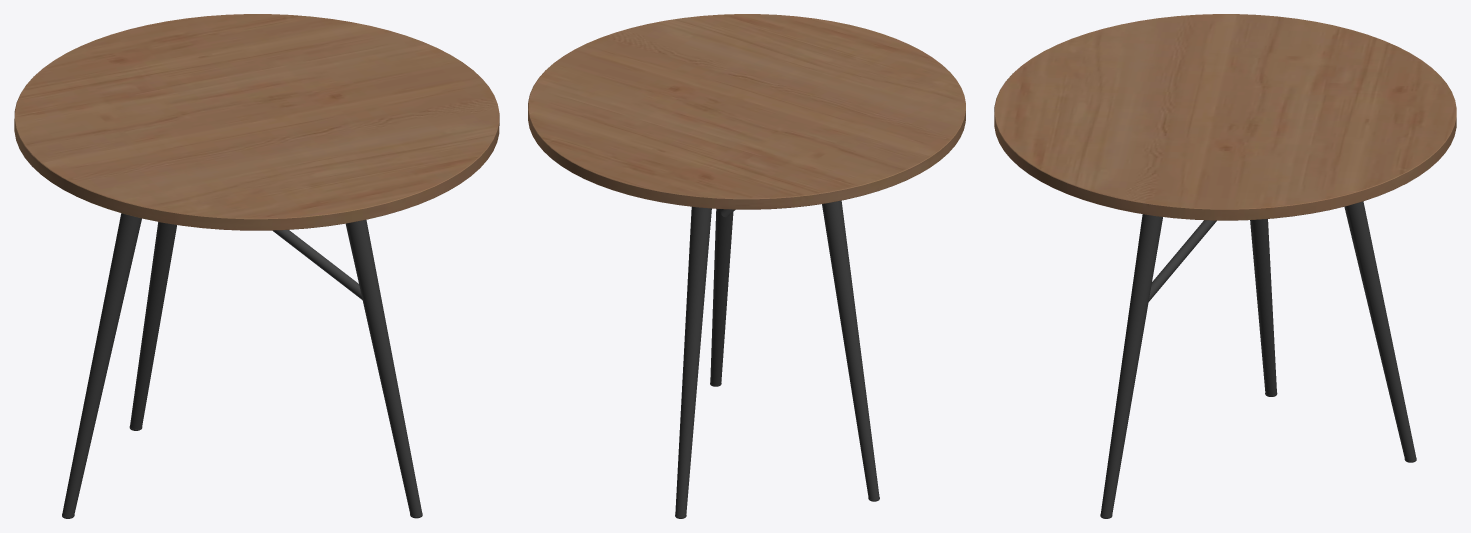
The model's file is masuta-3-picioare.9c1bb3bc25.glb.
3 views of the same model, side by side, from view 1: azimuth 30°, elevation 25°; view 2: azimuth 150°, elevation 25°; view 3: azimuth 270°, elevation 25° (orthographic). The views are drawn at different scales.
Parts seen in each view (by area): view 1: table Crueso_table Crueso_0; view 2: table Crueso_table Crueso_0; view 3: table Crueso_table Crueso_0.
Boxes of the visible parts, x1,y1,x2,y2 form: table Crueso_table Crueso_0: [14, 14, 499, 518]; table Crueso_table Crueso_0: [528, 14, 965, 518]; table Crueso_table Crueso_0: [994, 14, 1456, 518].
Size of the model in its own units: 0.8995 by 0.7732 by 0.8995.
Materials: 2 (1 with a texture image).
